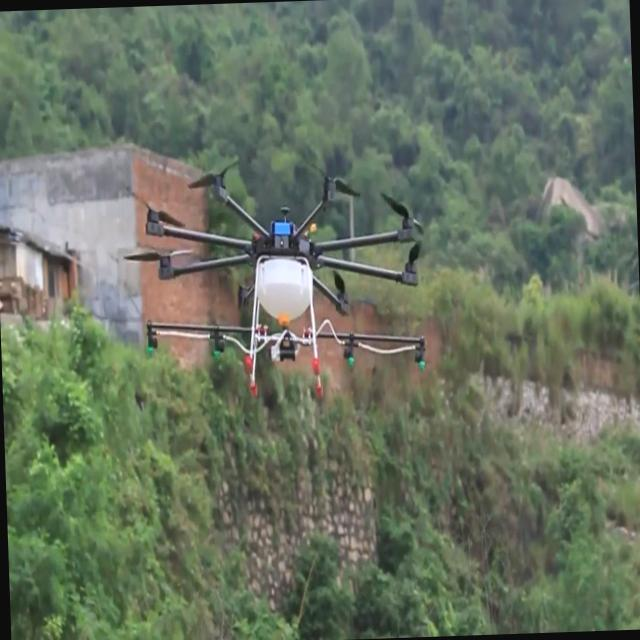drone: (120, 149, 432, 401)
